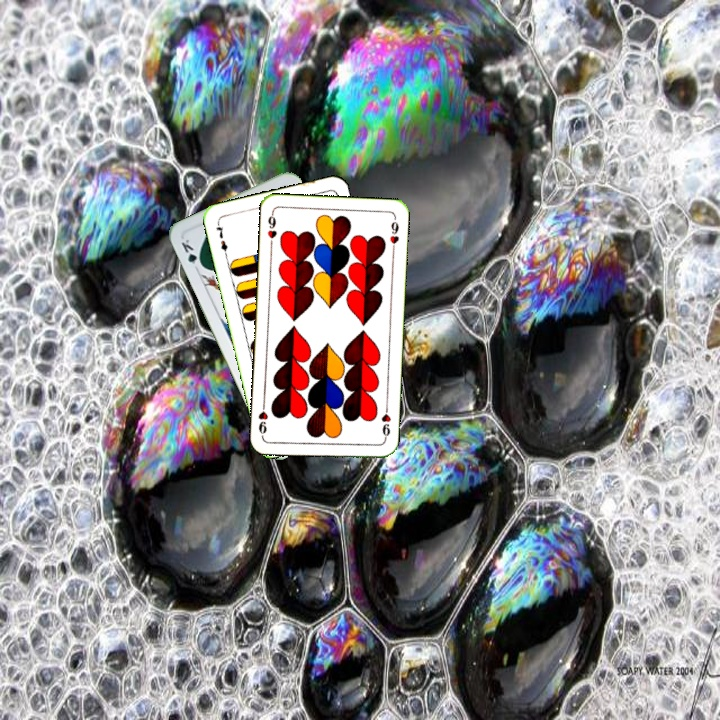E7: (212, 218, 230, 258)
GK: (177, 235, 206, 274)
H9: (378, 402, 393, 443), (264, 209, 279, 249)
